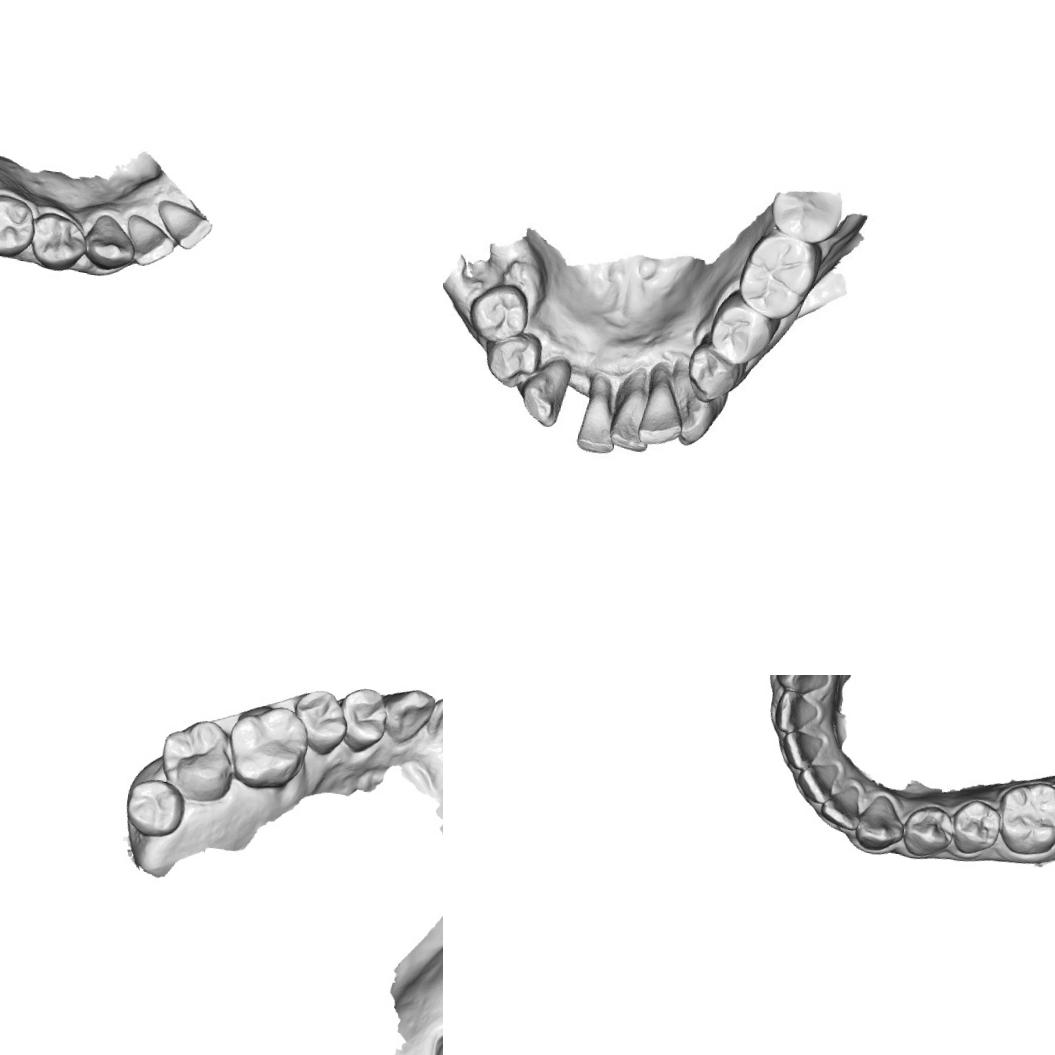canine: (664, 366, 724, 448), (78, 210, 142, 276), (514, 358, 571, 429), (378, 683, 438, 748), (852, 791, 908, 854), (772, 675, 834, 699)
incisor: (606, 372, 659, 451), (151, 197, 216, 255), (639, 370, 688, 446), (574, 376, 620, 456), (119, 210, 178, 272), (770, 687, 822, 739), (818, 781, 864, 832), (794, 758, 840, 807), (778, 728, 825, 773), (423, 693, 443, 751)
molar: (222, 699, 315, 795), (154, 714, 240, 810), (736, 229, 819, 322), (990, 776, 1055, 861), (120, 774, 191, 842), (712, 296, 772, 368)
premolar: (25, 206, 94, 276), (288, 686, 352, 760), (333, 682, 393, 760), (900, 802, 958, 863), (469, 285, 525, 344), (949, 797, 1003, 858), (686, 347, 744, 403), (486, 334, 538, 390), (0, 190, 38, 261)
